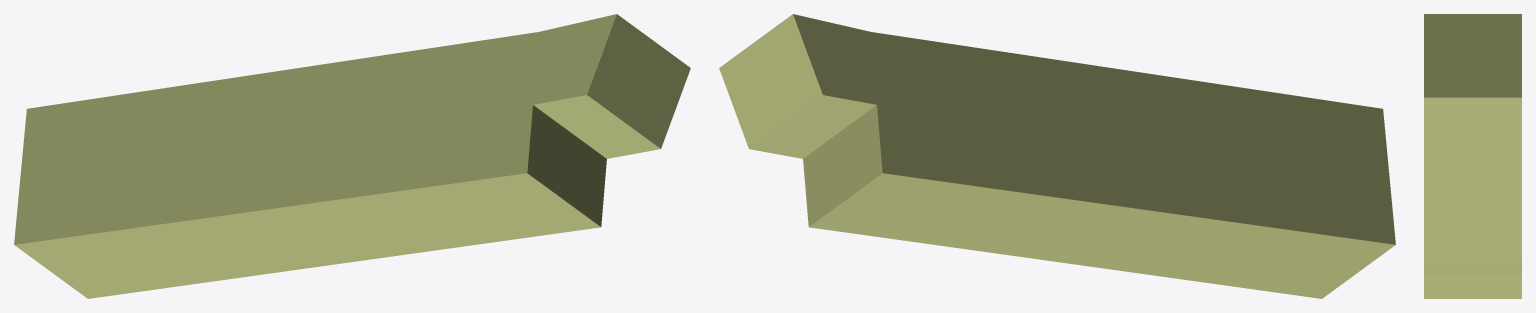
3 renders of one model, left to right at view 1: azimuth 30°, elevation 25°; view 2: azimuth 150°, elevation 25°; view 3: azimuth 270°, elevation 25°, orthographic. The views are drawn at different scales.
Parts seen in each view (by area): view 1: 0_0_3_1_3_2_3_0_1; view 2: 0_0_3_1_3_2_3_0_1; view 3: 0_0_3_1_3_2_3_0_1.
Boxes of the visible parts, x1,y1,x2,y2 form: 0_0_3_1_3_2_3_0_1: (14,14,690,298); 0_0_3_1_3_2_3_0_1: (719,14,1395,298); 0_0_3_1_3_2_3_0_1: (1424,14,1521,298).
Size of the model in its own units: 28.25 by 8.35 by 6.
